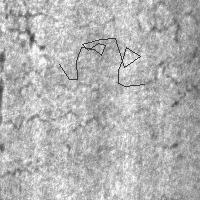crazing: (1, 56, 197, 130), (59, 38, 144, 86), (2, 1, 60, 51), (130, 1, 198, 43)
